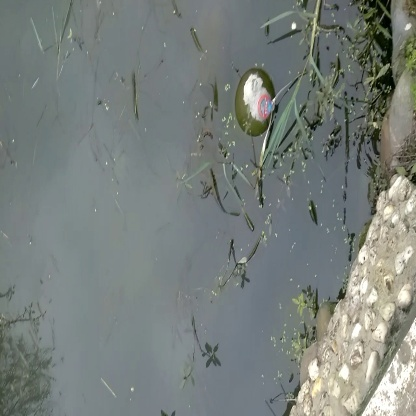plastic-bag: (229, 62, 288, 130)
